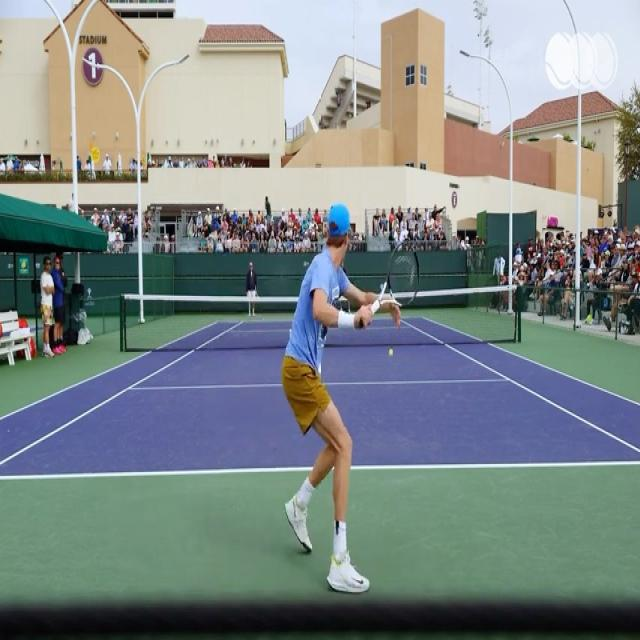forehand-ready: (266, 181, 422, 584)
